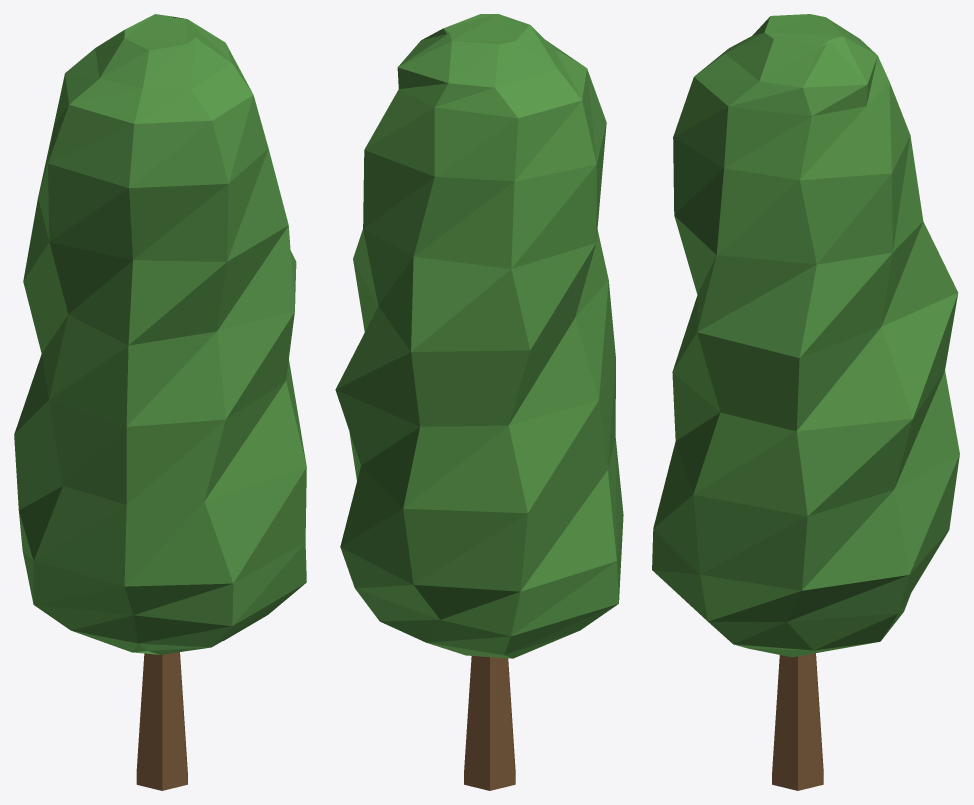
Rendered from tree3d-096.glb.
The picture shows the model from 3 angles, left to right: view 1: azimuth 30°, elevation 25°; view 2: azimuth 150°, elevation 25°; view 3: azimuth 270°, elevation 25°; orthographic projection.
Parts seen in each view (by area): view 1: tree3d-096; view 2: tree3d-096; view 3: tree3d-096.
Boxes of the visible parts, box(x1,y1,x2,y2) form: tree3d-096: box(14, 14, 306, 790); tree3d-096: box(335, 14, 623, 790); tree3d-096: box(652, 14, 959, 790).
Bounding box in the file's own units: 0.372 × 1 × 0.3721.
